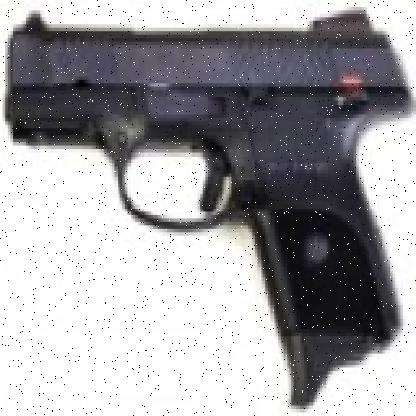pistol: (3, 14, 403, 399)
